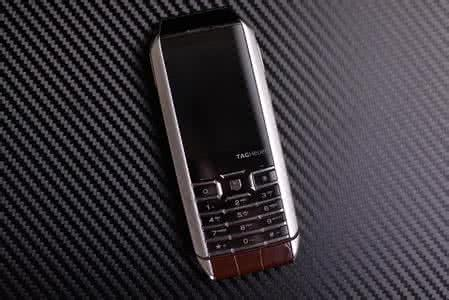phone: (157, 40, 296, 265)
